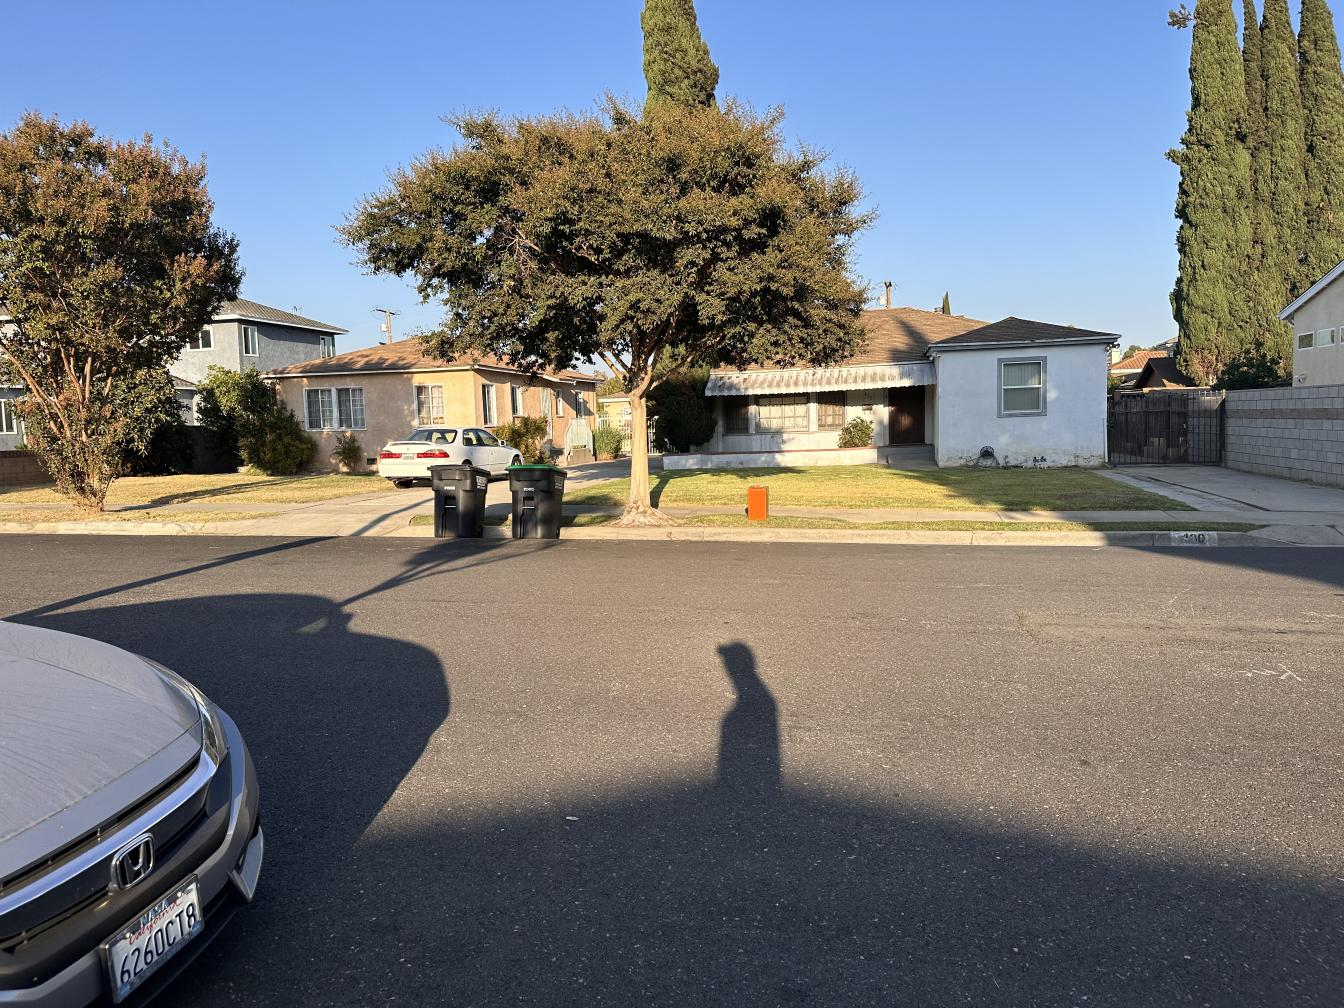curbs-laRr: (574, 521, 1274, 548), (5, 518, 180, 540)
orange box: (746, 484, 773, 521)
